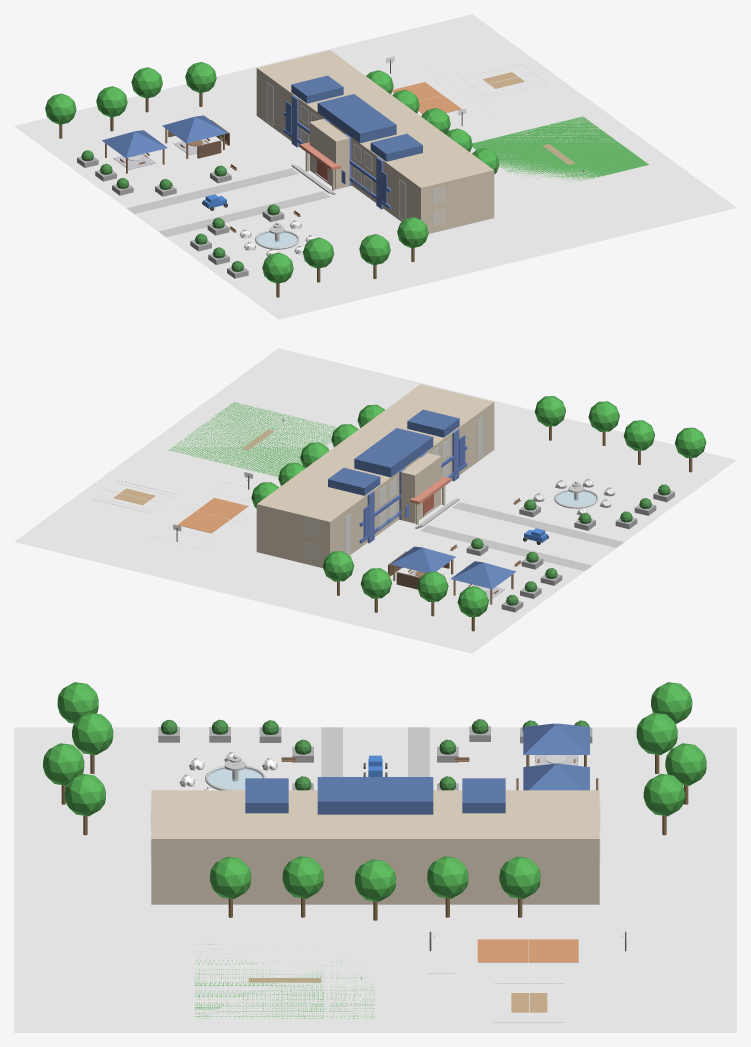
The model's file is map.glb.
3 views of the same model, one above another, from view 1: azimuth 30°, elevation 25°; view 2: azimuth 150°, elevation 25°; view 3: azimuth 270°, elevation 25° (orthographic). The views are drawn at different scales.
Visible parts, largest first — view 1: Ground, RightLawn, RightWing, LeftLawn, CricketOutfield, MainBuilding, LeftWing, Road, RoofCenter, LeftSidewalk, EntranceUpper, RightSidewalk (+14 smaller); view 2: Ground, RightLawn, LeftWing, CricketOutfield, MainBuilding, LeftLawn, RightWing, Road, RoofCenter, RightSidewalk, EntranceUpper, BasketballCourt_Surface (+14 smaller); view 3: Ground, MainBuilding, RightWing, LeftWing, RightLawn, LeftLawn, RoofCenter, Road, CricketOutfield, BasketballCourt_Surface, GazeboRoof.001, GazeboRoof (+19 smaller).
Boxes of the visible parts, bbox=[...] form: Ground: bbox=[14, 14, 736, 319]; RightLawn: bbox=[166, 197, 391, 281]; RightWing: bbox=[389, 147, 494, 233]; LeftLawn: bbox=[65, 123, 290, 208]; CricketOutfield: bbox=[472, 116, 648, 181]; MainBuilding: bbox=[286, 71, 464, 214]; LeftWing: bbox=[256, 50, 358, 138]; Road: bbox=[136, 175, 321, 230]; RoofCenter: bbox=[317, 94, 396, 143]; LeftSidewalk: bbox=[127, 168, 298, 213]; EntranceUpper: bbox=[309, 119, 349, 164]; RightSidewalk: bbox=[158, 191, 330, 237]; Ground: bbox=[14, 348, 736, 653]; RightLawn: bbox=[460, 457, 684, 542]; LeftWing: bbox=[256, 481, 361, 567]; CricketOutfield: bbox=[168, 402, 336, 476]; MainBuilding: bbox=[286, 405, 464, 548]; LeftLawn: bbox=[359, 531, 584, 615]; RightWing: bbox=[390, 384, 494, 472]; Road: bbox=[429, 509, 614, 564]; RoofCenter: bbox=[354, 428, 433, 477]; RightSidewalk: bbox=[452, 502, 623, 547]; EntranceUpper: bbox=[401, 453, 441, 498]; BasketballCourt_Surface: bbox=[177, 497, 248, 533]; Ground: bbox=[14, 727, 736, 1032]; MainBuilding: bbox=[231, 790, 519, 904]; RightWing: bbox=[151, 790, 237, 904]; LeftWing: bbox=[513, 790, 599, 904]; RightLawn: bbox=[154, 727, 321, 790]; LeftLawn: bbox=[429, 727, 596, 790]; RoofCenter: bbox=[317, 777, 433, 814]; Road: bbox=[346, 727, 404, 776]; CricketOutfield: bbox=[194, 944, 374, 1018]; BasketballCourt_Surface: bbox=[477, 939, 578, 962]; GazeboRoof.001: bbox=[523, 723, 589, 754]; GazeboRoof: bbox=[523, 763, 589, 790].
Size of the model in its own units: 100 by 12.88 by 100.
